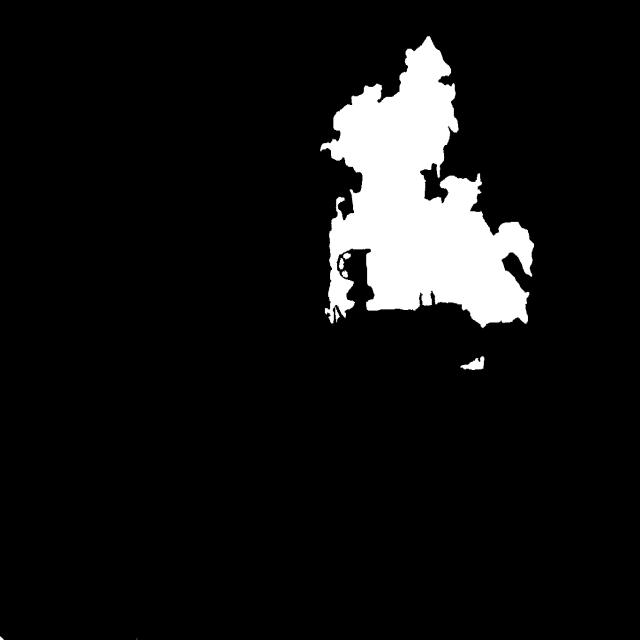fire: (280, 36, 587, 439)
